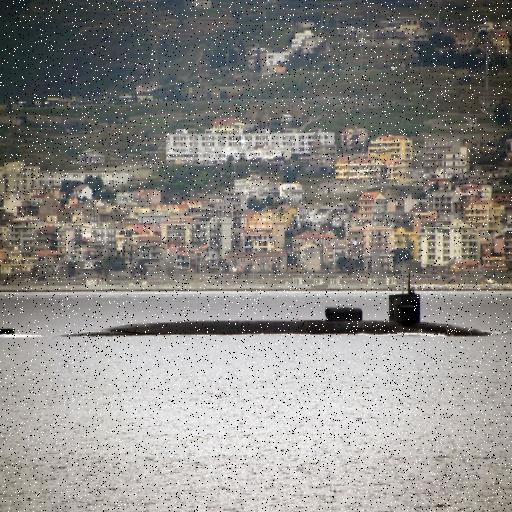submarine: (1, 277, 497, 338)
